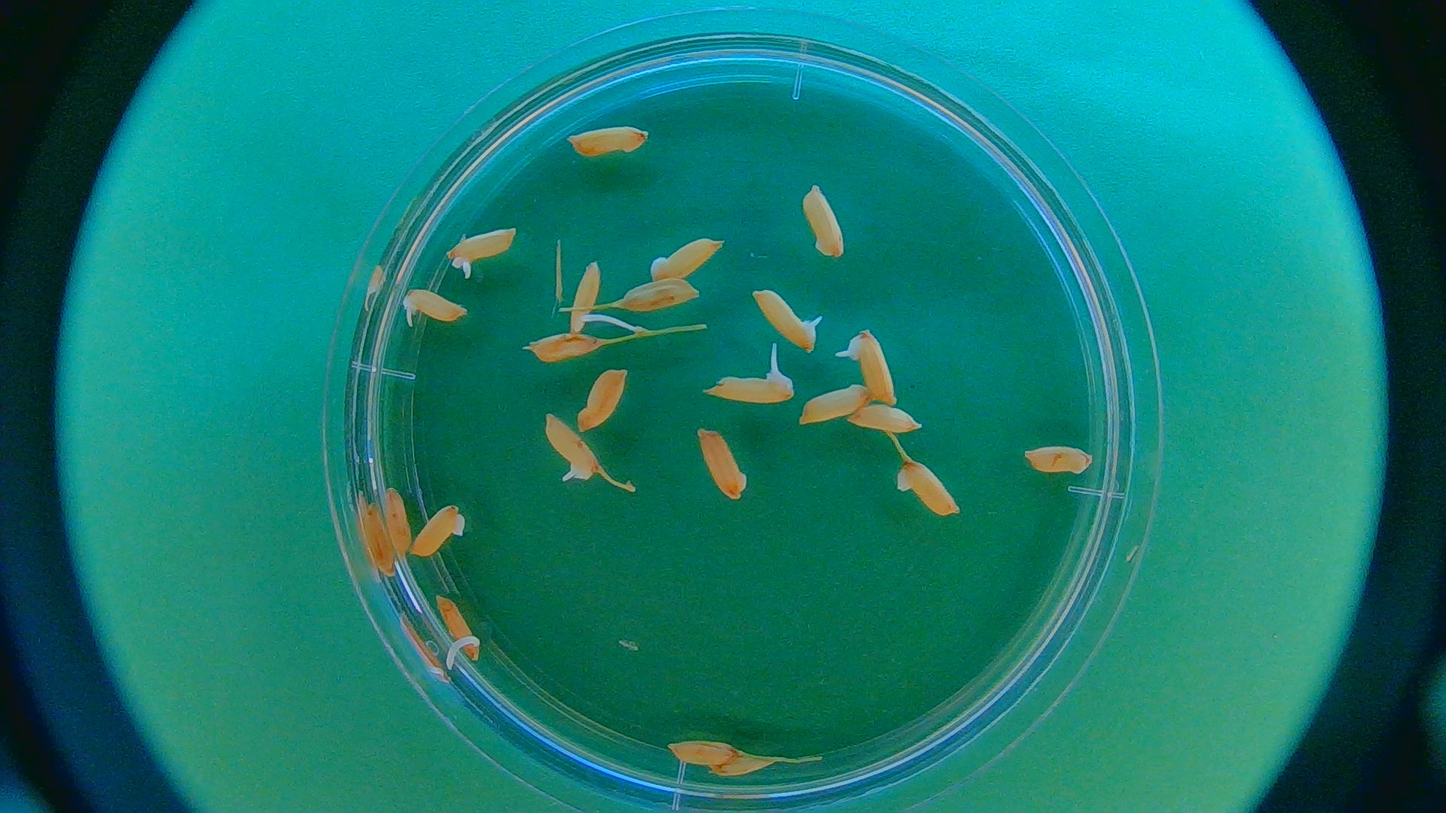no: (895, 458, 963, 523), (697, 427, 749, 500), (408, 500, 465, 565), (650, 236, 723, 284), (569, 124, 655, 163), (577, 370, 632, 429), (801, 187, 847, 255), (617, 279, 700, 316), (801, 384, 871, 424), (1017, 441, 1094, 477), (669, 738, 740, 771), (531, 333, 606, 364), (848, 403, 923, 434), (712, 752, 782, 782), (385, 488, 414, 553), (364, 504, 391, 571)
yes: (752, 290, 818, 355), (848, 330, 901, 409), (542, 413, 601, 483), (450, 228, 520, 273), (713, 367, 795, 405), (436, 592, 480, 661), (566, 259, 602, 336), (399, 288, 468, 324)
